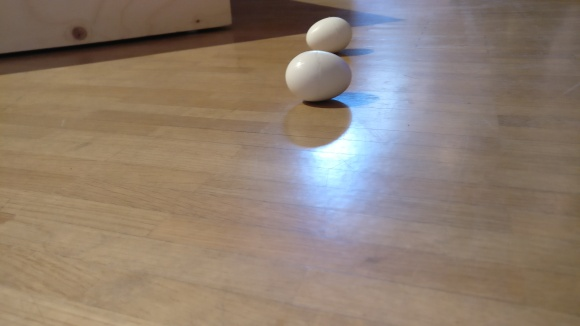egg: (285, 50, 351, 103), (304, 16, 354, 50)
